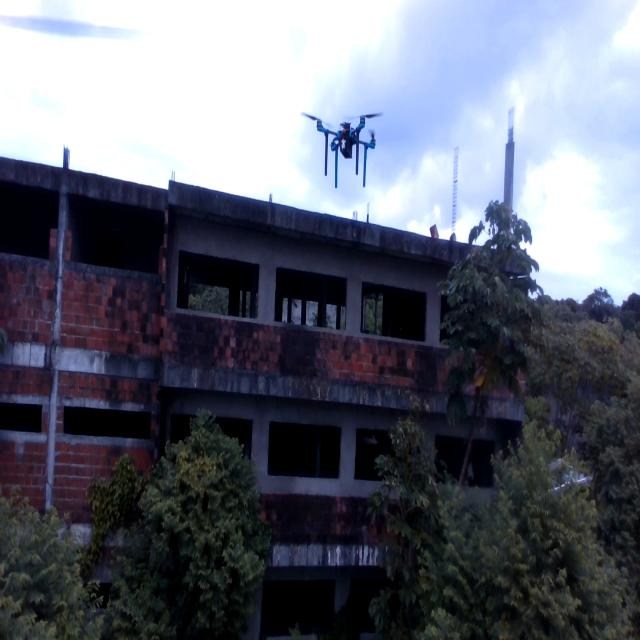-uav-: (289, 80, 394, 215)
